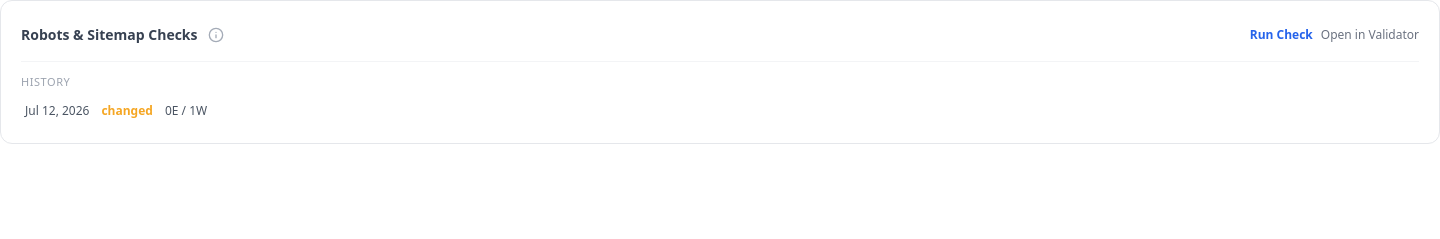
Test: changed-vs-previous section (D5) › renders added/removed robots lines when the expanded row changed
Click the button "Jul 12, 2026 changed 0E / 1W": (57, 110) [21, 98, 1419, 122]
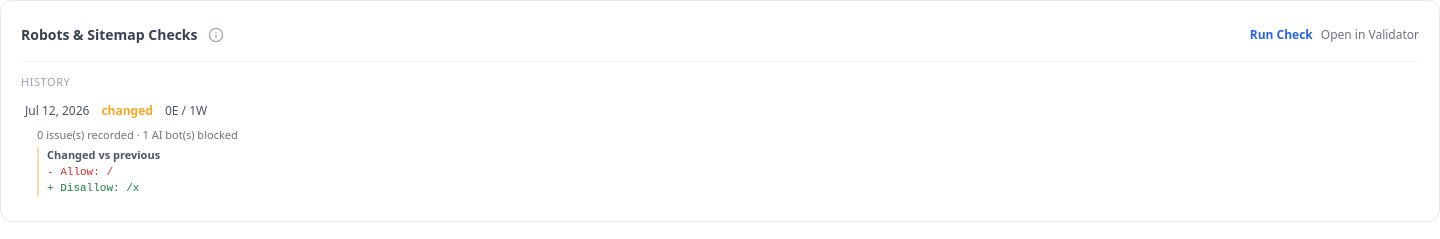
Check: the text "Changed vs previous" is shown, box [47, 147, 160, 162]
Check: the text "+ Disallow: /x" is shown, box [47, 182, 139, 194]
Check: the text "- Allow: /" is shown, box [47, 166, 113, 178]
